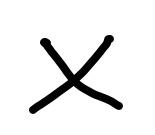mult: (29, 35, 122, 111)
